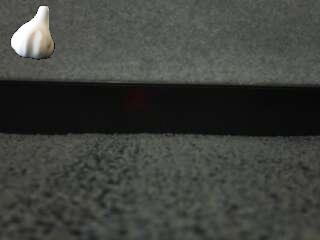Garlic: (11, 5, 56, 60)
